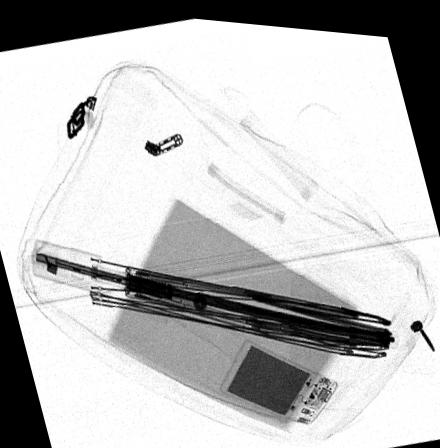Powerbank: (218, 334, 337, 422)
